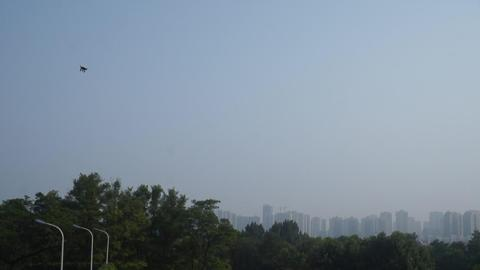UAV: (79, 65, 90, 73)
